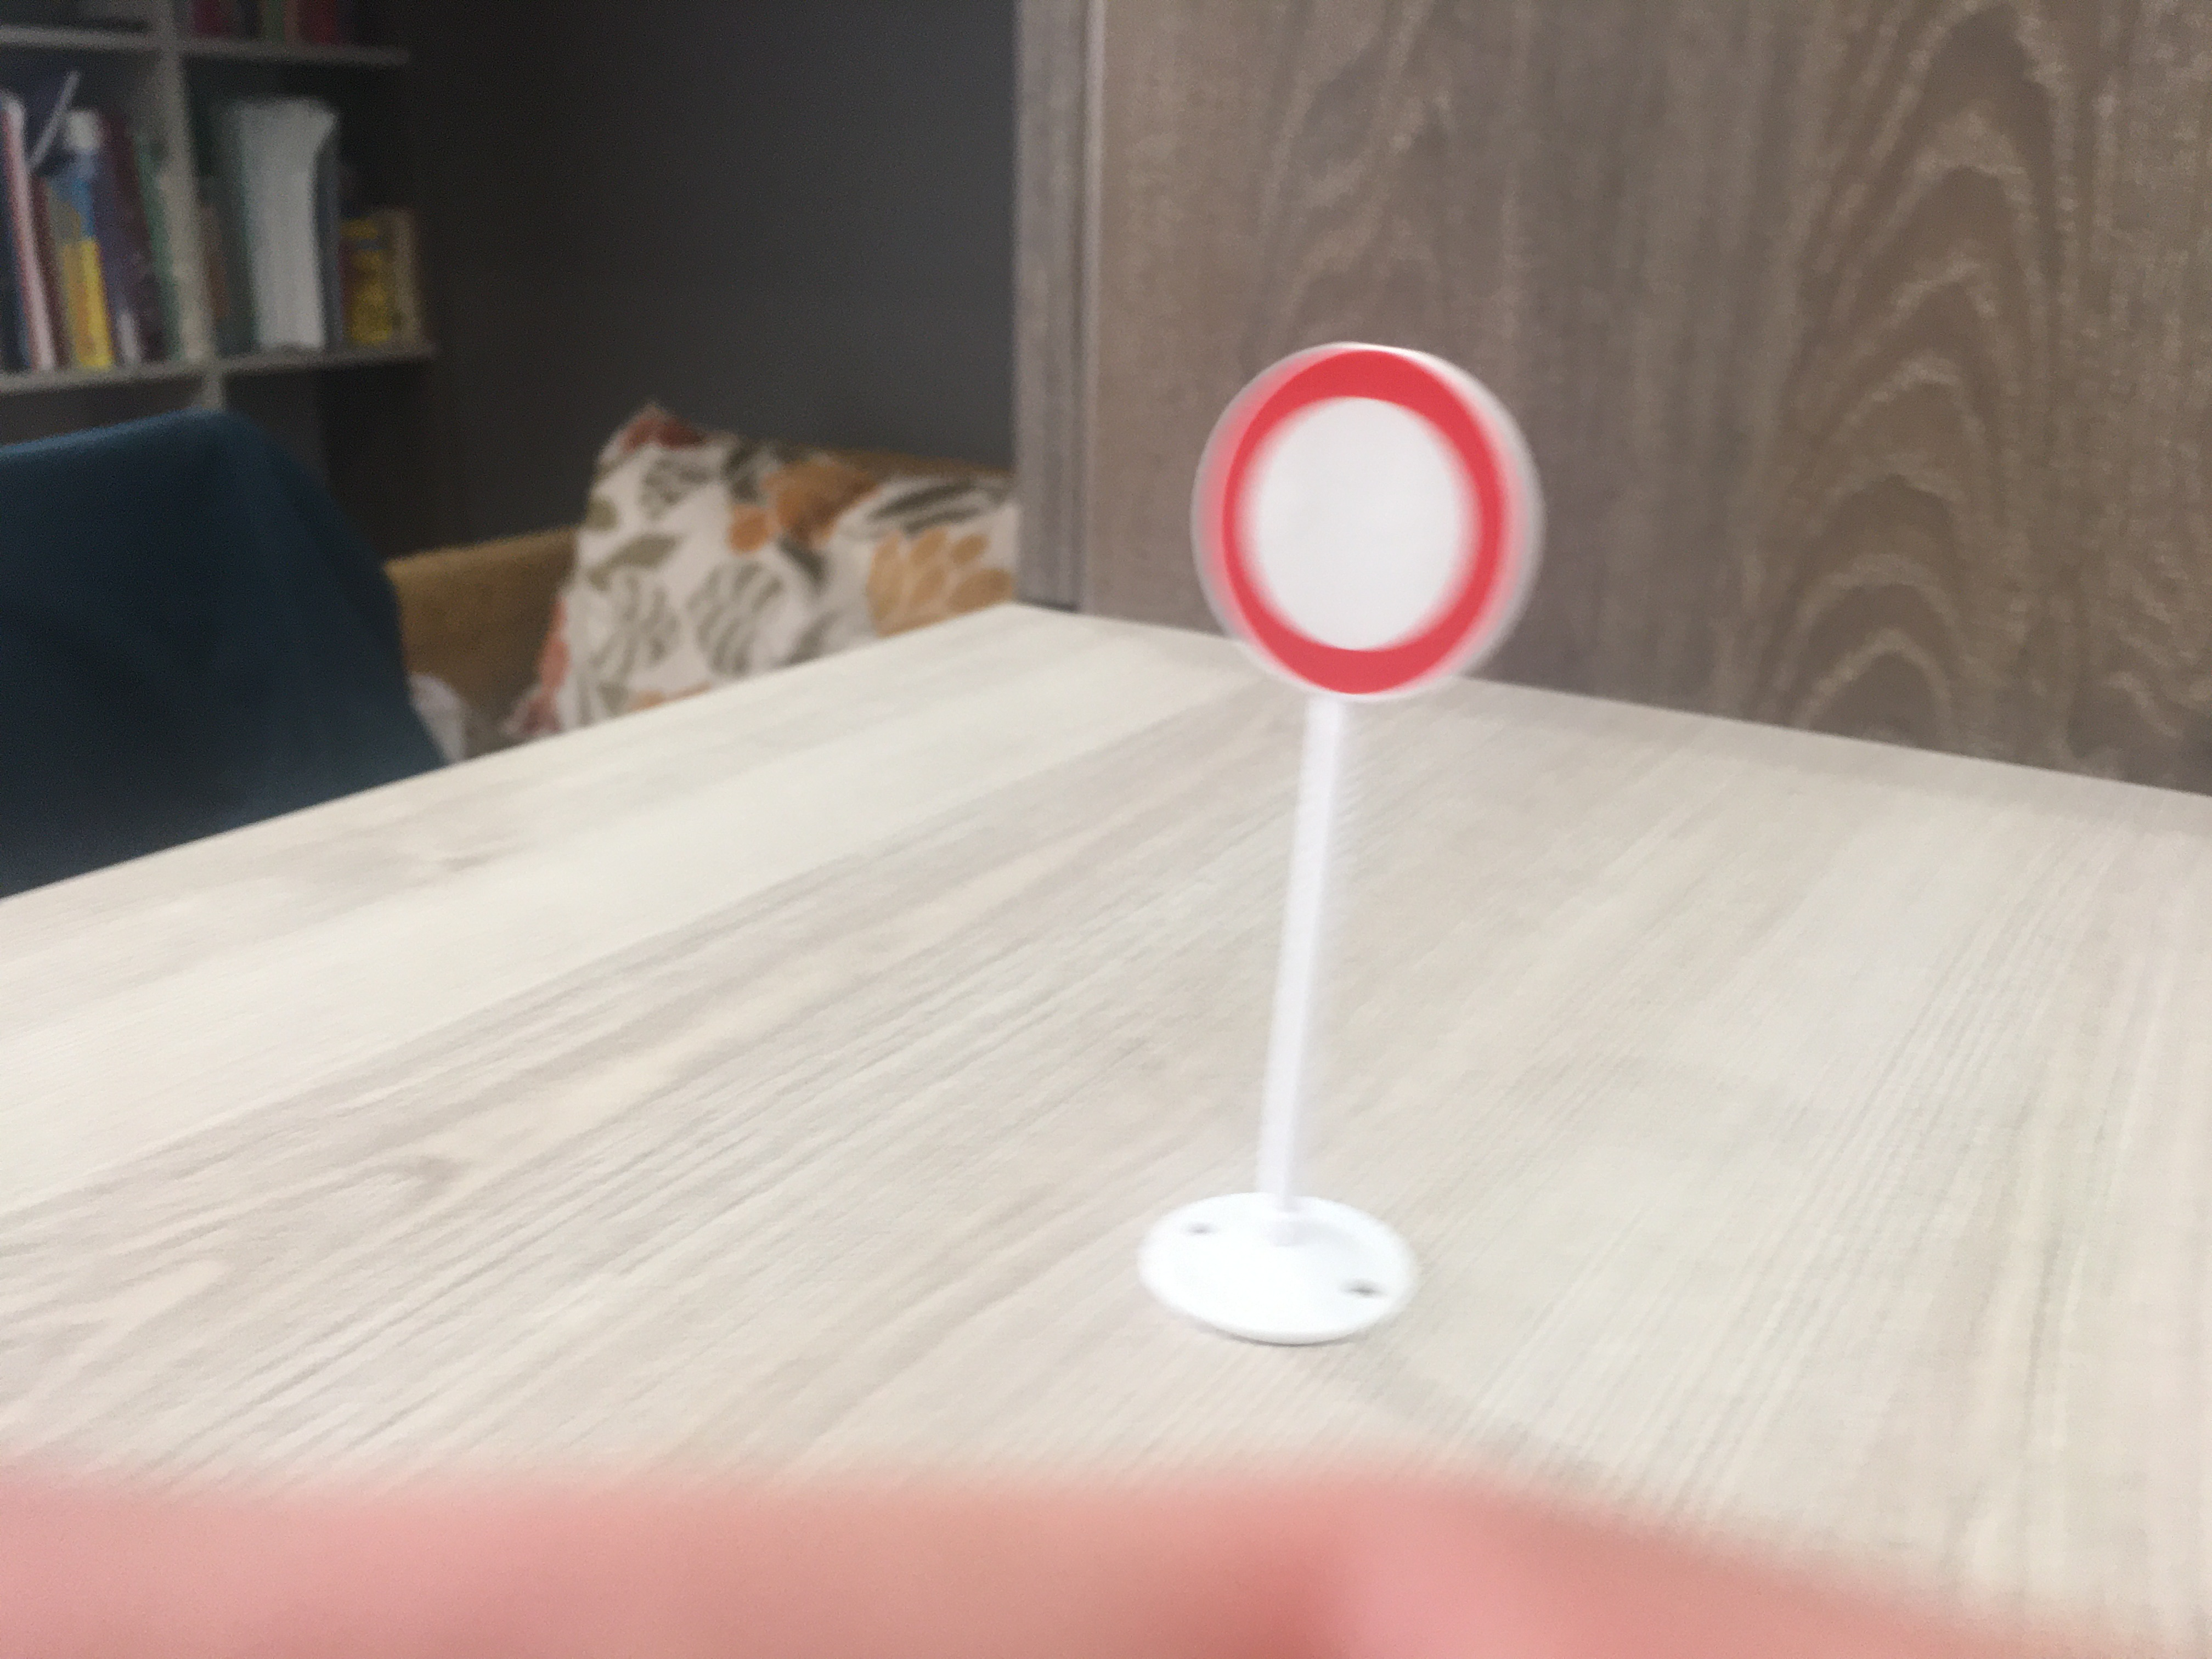noDrive: (1202, 350, 1505, 699)
